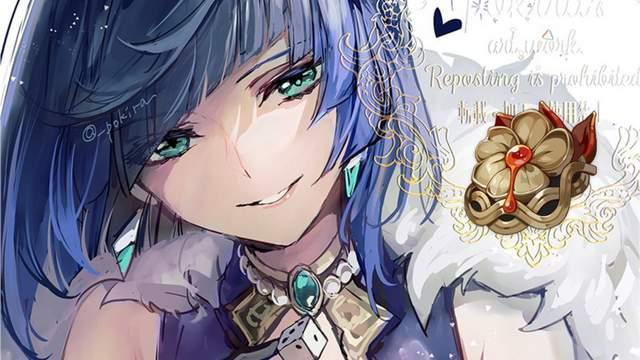夜兰: (1, 1, 579, 360)
